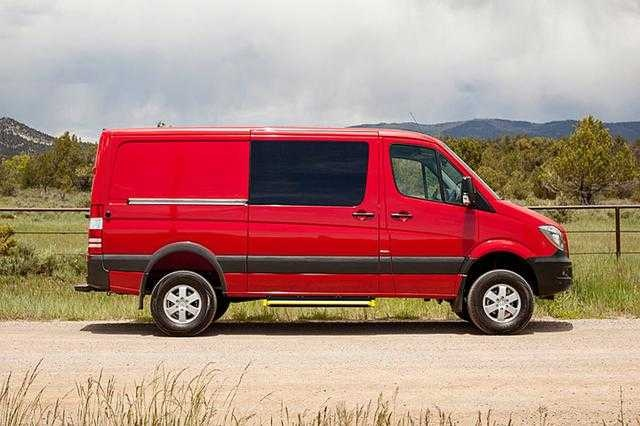van: (87, 124, 573, 337)
